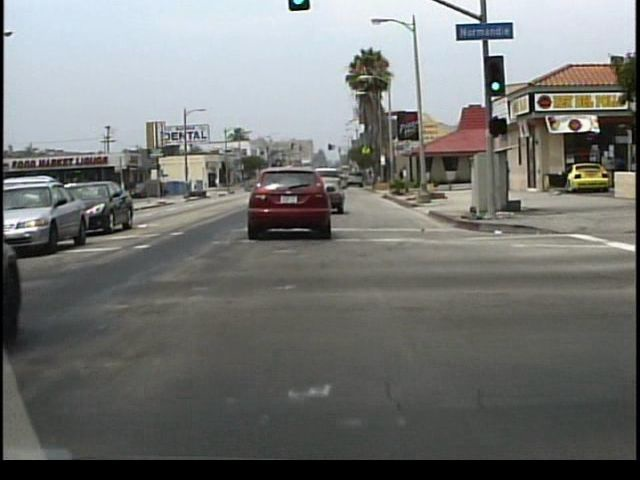person: (611, 150, 628, 198)
